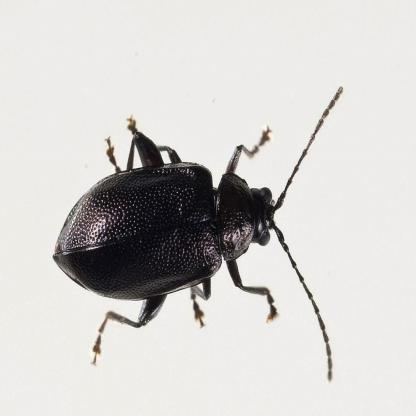beetle: (40, 87, 338, 383)
